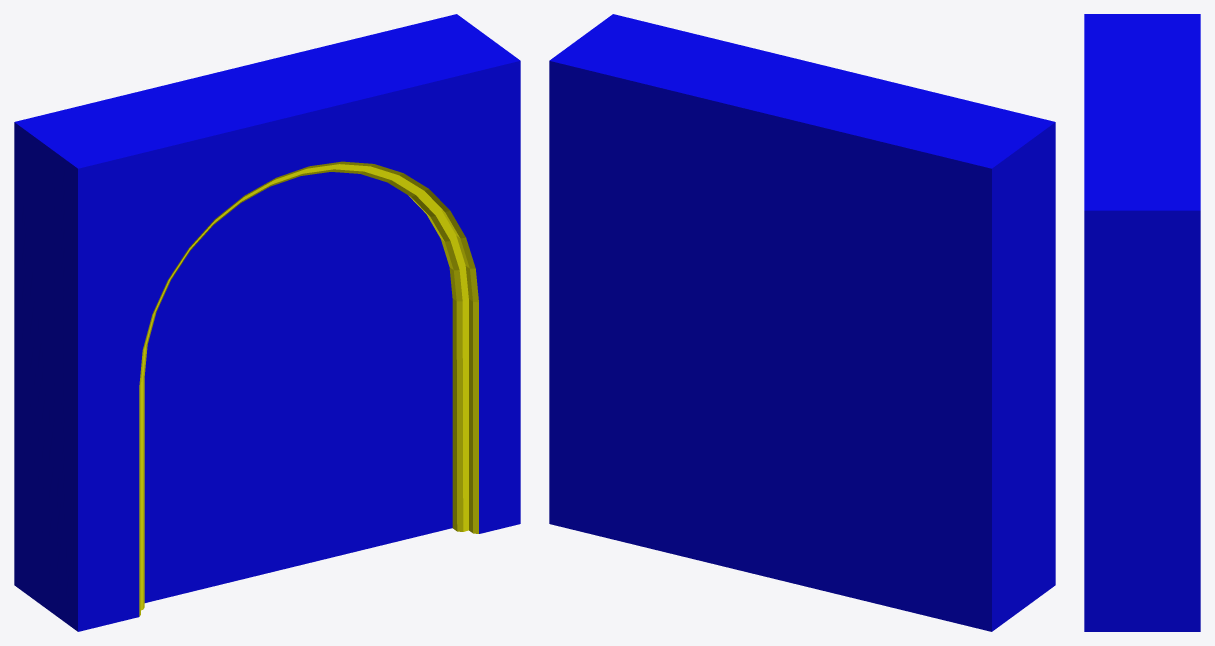
Rendered from WALL_ARCH_DECO.fbx.
3 views of the same model, side by side, from view 1: azimuth 30°, elevation 25°; view 2: azimuth 150°, elevation 25°; view 3: azimuth 270°, elevation 25° (orthographic). The views are drawn at different scales.
Parts seen in each view (by area): view 1: WALL_ARCH_DECOR; view 2: WALL_ARCH_DECOR; view 3: WALL_ARCH_DECOR.
Boxes of the visible parts, bbox=[...] form: WALL_ARCH_DECOR: bbox=[14, 14, 520, 631]; WALL_ARCH_DECOR: bbox=[549, 14, 1055, 631]; WALL_ARCH_DECOR: bbox=[1084, 14, 1200, 631].
Size of the model in its own units: 400 by 400 by 100.
